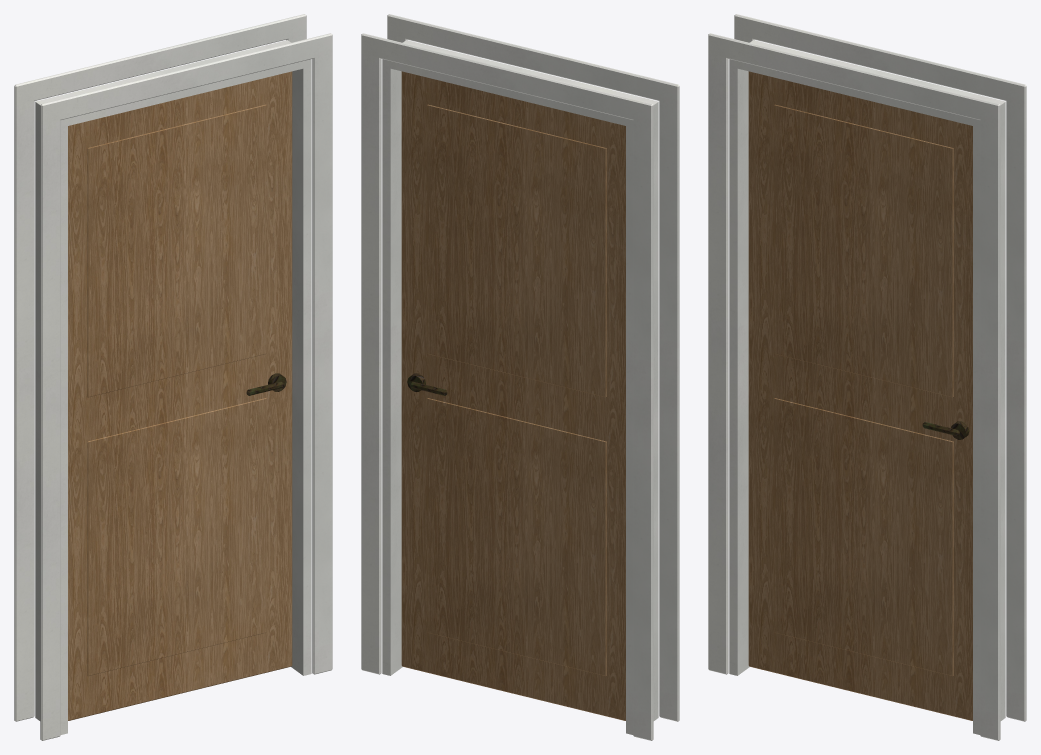
The model's file is door_interior.fbx.
3 views of the same model, side by side, from view 1: azimuth 30°, elevation 25°; view 2: azimuth 150°, elevation 25°; view 3: azimuth 330°, elevation 25° (orthographic).
Visible parts, largest first — view 1: door_interior; view 2: door_interior; view 3: door_interior.
Boxes of the visible parts, x1=… form: door_interior: x1=14, y1=14, x2=332, y2=740; door_interior: x1=361, y1=14, x2=679, y2=740; door_interior: x1=708, y1=14, x2=1026, y2=740.
Size of what is drawn, in the model's own units: 104 by 217 by 17.4.
Materials: 3 (3 with a texture image).
